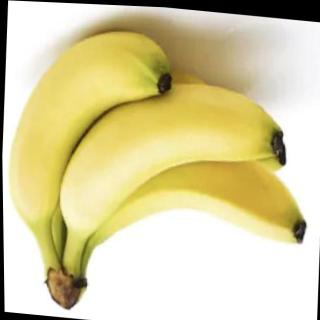banana: (55, 65, 289, 251), (2, 18, 176, 240), (84, 134, 312, 264)
